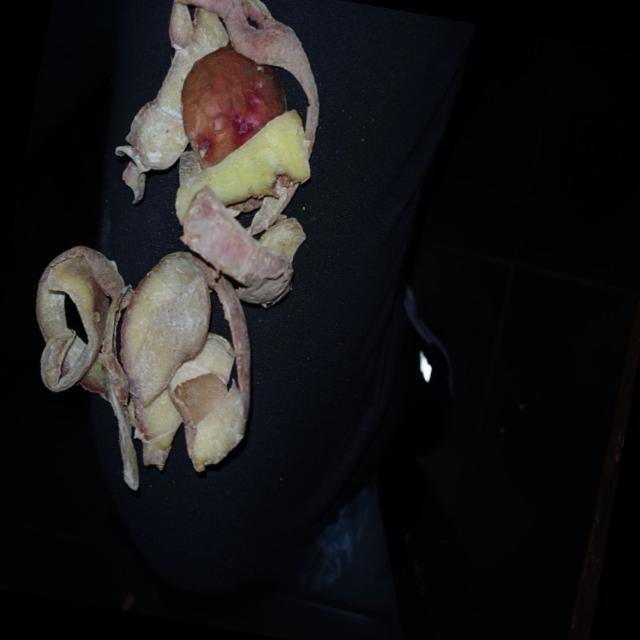organic: (8, 0, 342, 509)
